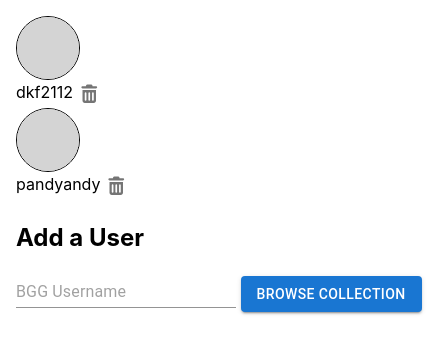
it: Users › Should display an error message for invalid users
The image size is (445, 363).
Type "invalidUsername" into the field at (126,292), box [16, 276, 236, 308]
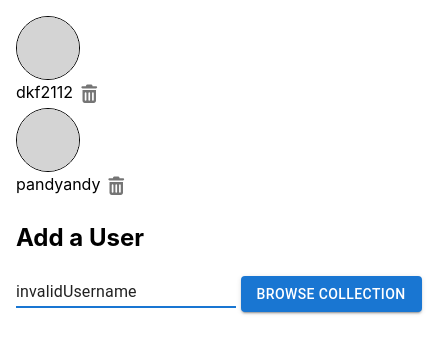
Click the button "Browse Collection" at (331,294), box [240, 276, 422, 312]
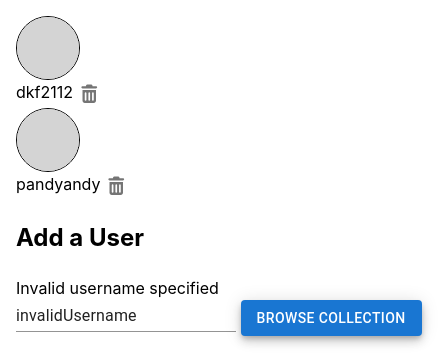
Now the text "Invalid username specified" is shown, box [16, 278, 219, 298]
